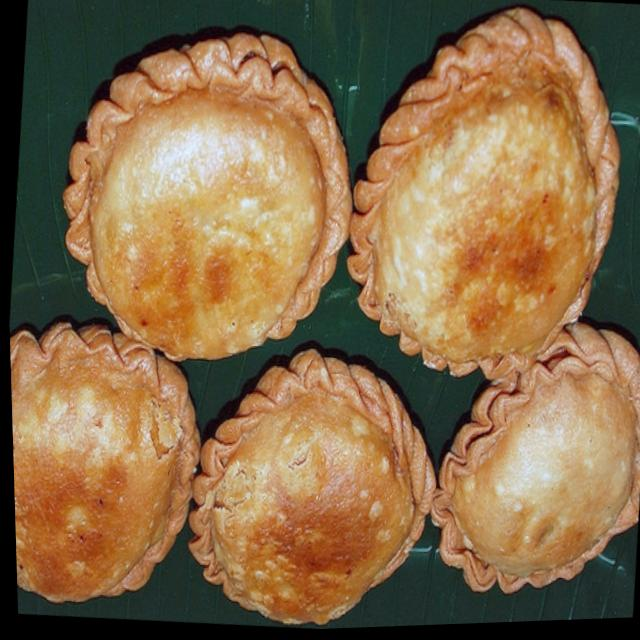炸货点心: (11, 0, 640, 640)
